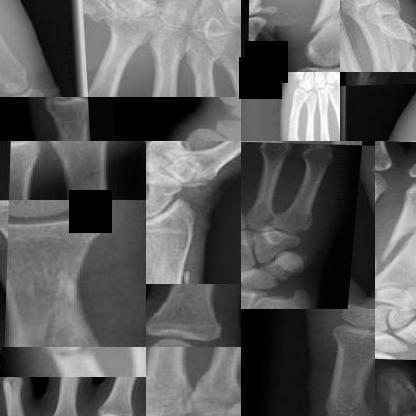fracture: (6, 279, 118, 346), (378, 202, 415, 264), (297, 0, 340, 47), (34, 347, 96, 377), (383, 385, 415, 415), (354, 322, 374, 361), (78, 0, 104, 25), (286, 105, 303, 136), (403, 29, 415, 68)
